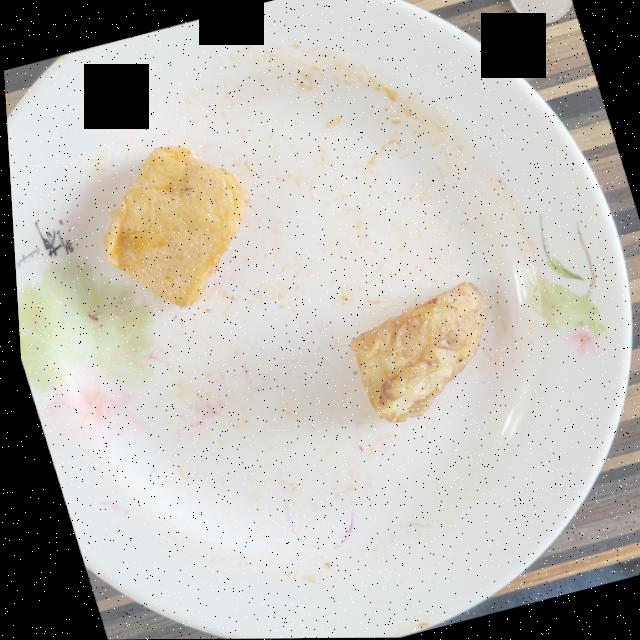coin: (510, 0, 572, 25)
creamy tofu: (100, 145, 247, 307)
fried potato: (346, 282, 484, 422)
